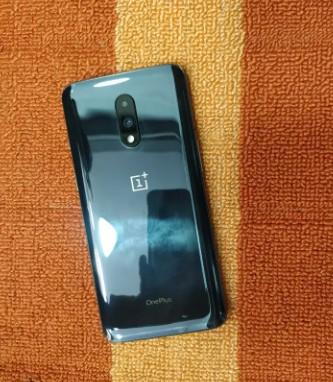Smart Phone: (61, 64, 229, 345)
